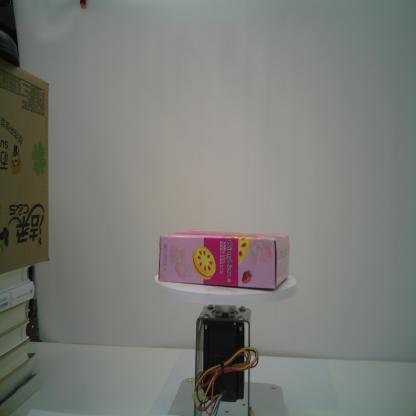Dessert: (156, 229, 292, 292)
